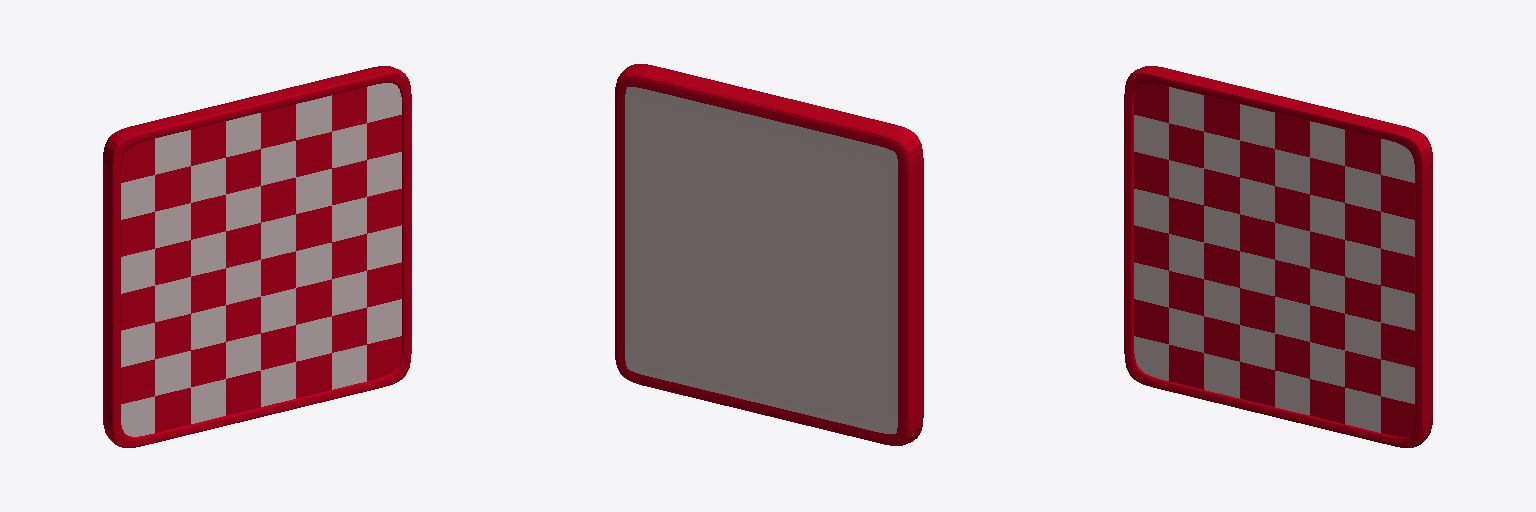
File: board.obj
The picture shows the model from 3 angles: view 1: azimuth 30°, elevation 25°; view 2: azimuth 150°, elevation 25°; view 3: azimuth 330°, elevation 25°; orthographic projection.
Bounding box in the file's own units: 1701 × 1701 × 128.